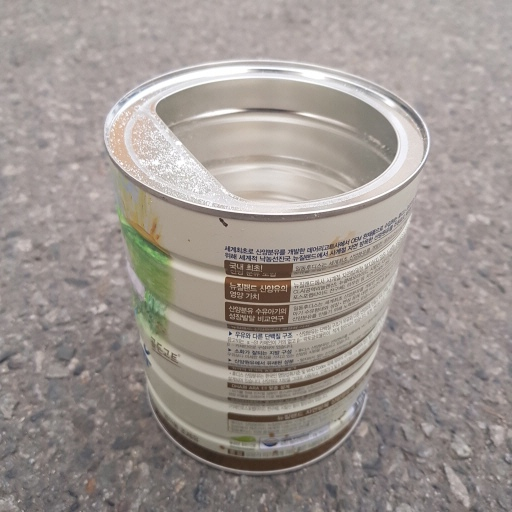Metal_1: (102, 57, 434, 479)
